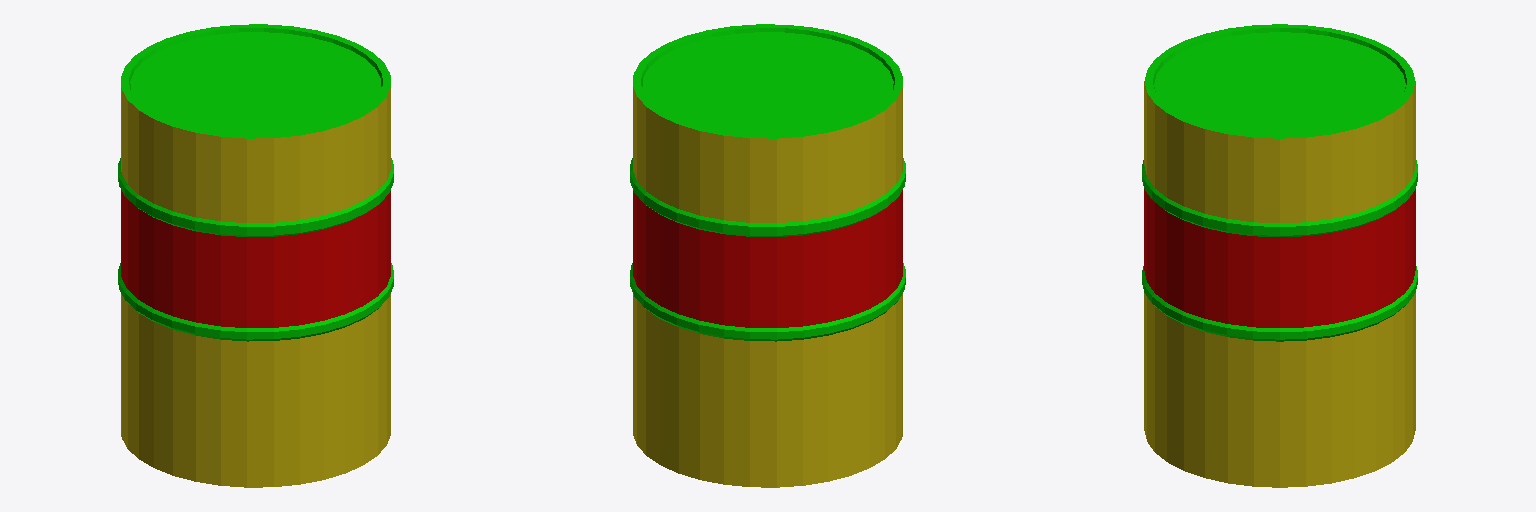
File: MiniMesh_Cube2.obj
3 views of the same model, side by side, from view 1: azimuth 30°, elevation 25°; view 2: azimuth 150°, elevation 25°; view 3: azimuth 270°, elevation 25° (orthographic).
Parts seen in each view (by area): view 1: Cylinder; view 2: Cylinder; view 3: Cylinder.
Part boxes in pixels (x1,y1,x2,y2): Cylinder: (118,24,393,487); Cylinder: (630,24,905,487); Cylinder: (1142,24,1417,487).
Size of the model in its own units: 2.04 by 2.84 by 2.04.